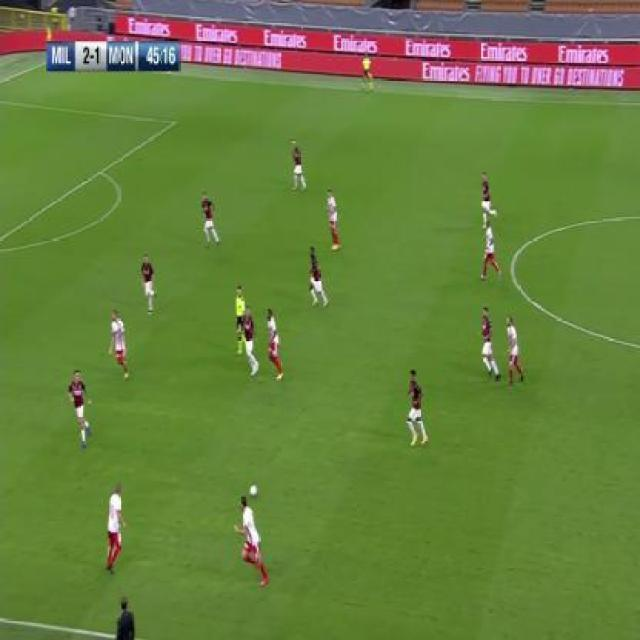ball: (250, 481, 259, 497)
player: (233, 496, 269, 590), (104, 481, 127, 577), (404, 366, 430, 448), (69, 367, 94, 449), (108, 307, 133, 381), (479, 307, 502, 386), (306, 245, 331, 311), (265, 308, 287, 382), (504, 314, 526, 387), (241, 306, 261, 377), (480, 222, 502, 284), (200, 190, 222, 249), (141, 252, 158, 317), (479, 169, 499, 222), (326, 188, 342, 253), (289, 139, 308, 193), (233, 283, 247, 348), (115, 594, 135, 639), (360, 51, 374, 96)
